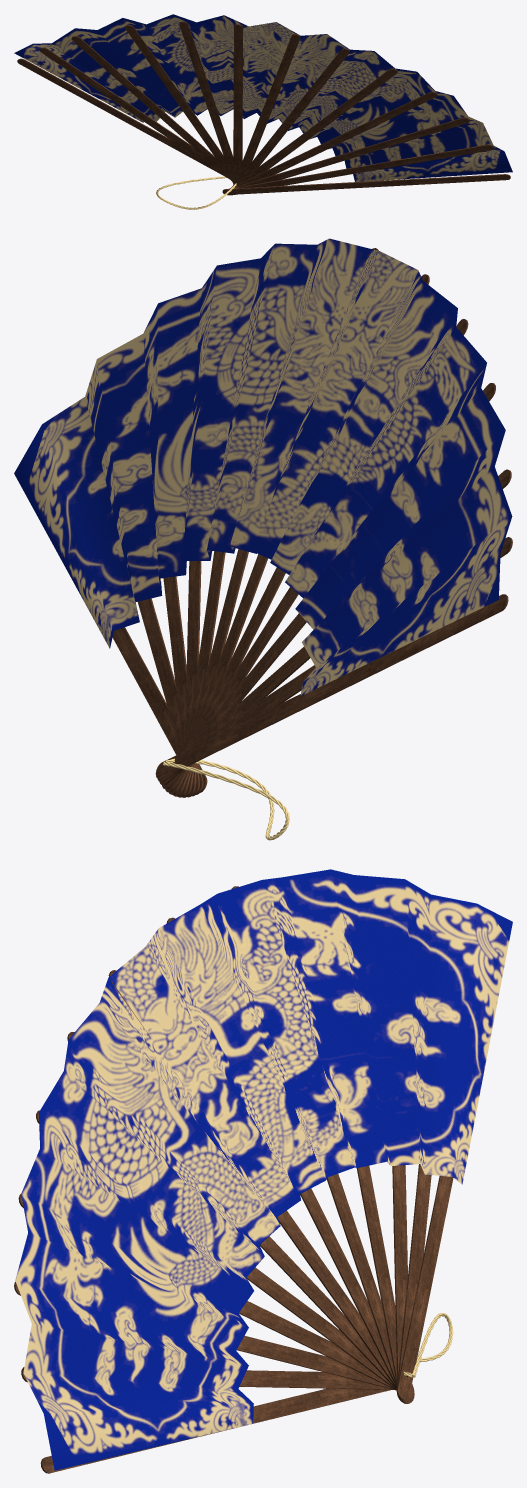
3 views of the same model, one above another, from view 1: azimuth 30°, elevation 25°; view 2: azimuth 150°, elevation 25°; view 3: azimuth 270°, elevation 25° (orthographic). The views are drawn at different scales.
Parts seen in each view (by area): view 1: Object_2, Object_6; view 2: Object_2, Object_6; view 3: Object_2, Object_6.
Boxes of the visible parts, left/top/right/bottom form: Object_2: left=14, top=14, right=512, bottom=181; Object_6: left=17, top=21, right=510, bottom=195; Object_2: left=14, top=238, right=512, bottom=696; Object_6: left=112, top=248, right=512, bottom=797; Object_2: left=15, top=869, right=512, bottom=1470; Object_6: left=14, top=886, right=453, bottom=1473.
Size of the model in its own units: 40.16 by 24.82 by 25.42.
3 materials, 3 textured.
